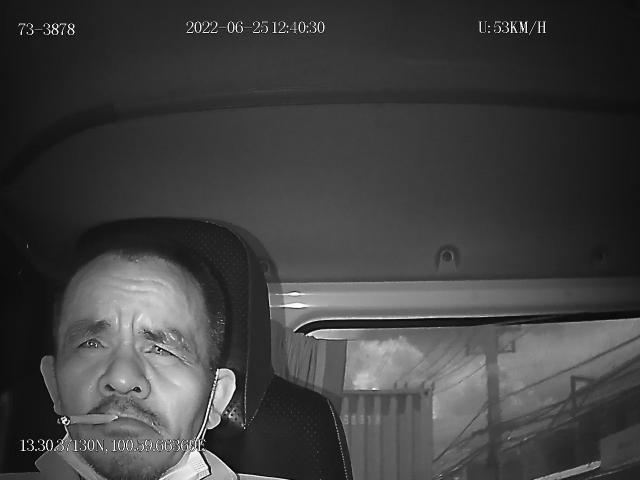SafeDriving: (137, 326, 185, 366), (70, 324, 114, 360)
Smoking: (59, 412, 119, 426)
